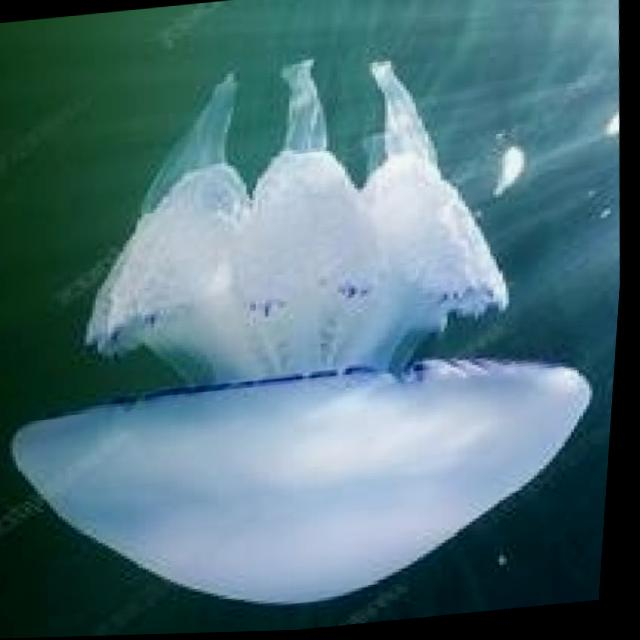Box-jellyfish: (0, 20, 638, 640)
